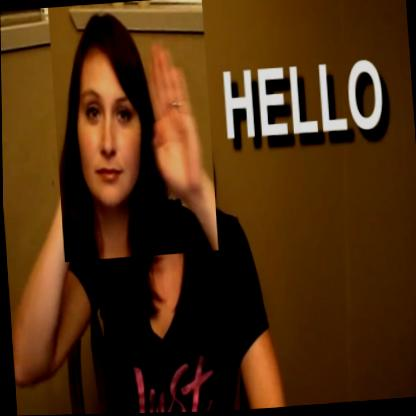Hello: (48, 0, 218, 262)
